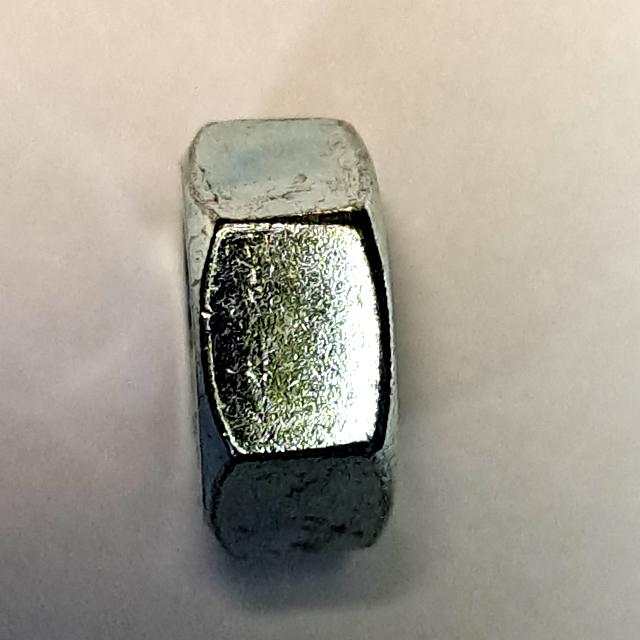Side_Excellent: (156, 108, 424, 581)
